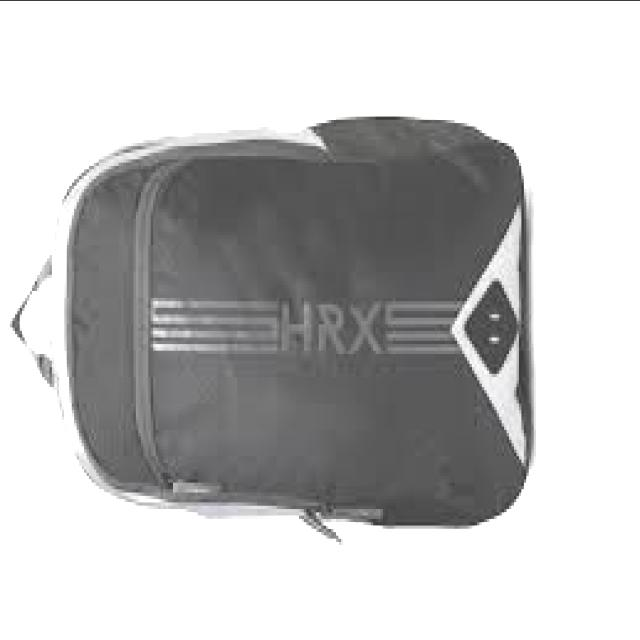backpack: (9, 117, 533, 546)
